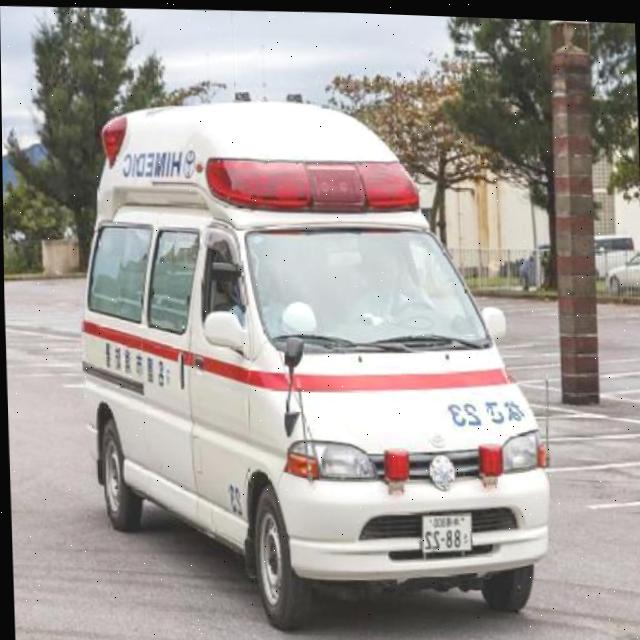emergency: (70, 82, 553, 638)
